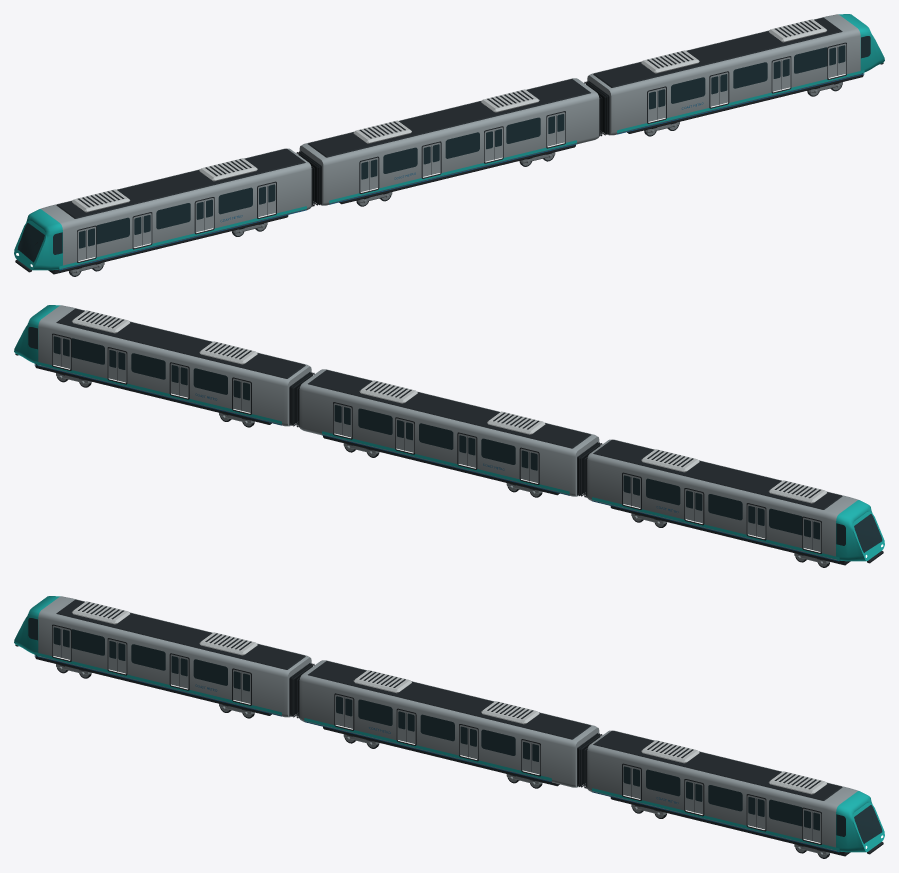
The model's file is coast_metro_train.glb.
3 views of the same model, one above another, from view 1: azimuth 30°, elevation 25°; view 2: azimuth 150°, elevation 25°; view 3: azimuth 330°, elevation 25° (orthographic).
Parts seen in each view (by area): view 1: TrainCar_1_Geometry, TrainCar_2_Geometry, TrainCar_0_Geometry; view 2: TrainCar_1_Geometry, TrainCar_2_Geometry, TrainCar_0_Geometry; view 3: TrainCar_1_Geometry, TrainCar_0_Geometry, TrainCar_2_Geometry.
Boxes of the visible parts, x1,y1,x2,y2 form: TrainCar_1_Geometry: [296, 78, 602, 206]; TrainCar_2_Geometry: [14, 148, 314, 276]; TrainCar_0_Geometry: [584, 14, 884, 136]; TrainCar_1_Geometry: [296, 369, 602, 497]; TrainCar_2_Geometry: [584, 439, 884, 567]; TrainCar_0_Geometry: [14, 305, 314, 427]; TrainCar_1_Geometry: [296, 660, 602, 788]; TrainCar_0_Geometry: [584, 730, 884, 858]; TrainCar_2_Geometry: [14, 596, 314, 718].
Size of the model in its own units: 57.66 by 4.21 by 2.96.
